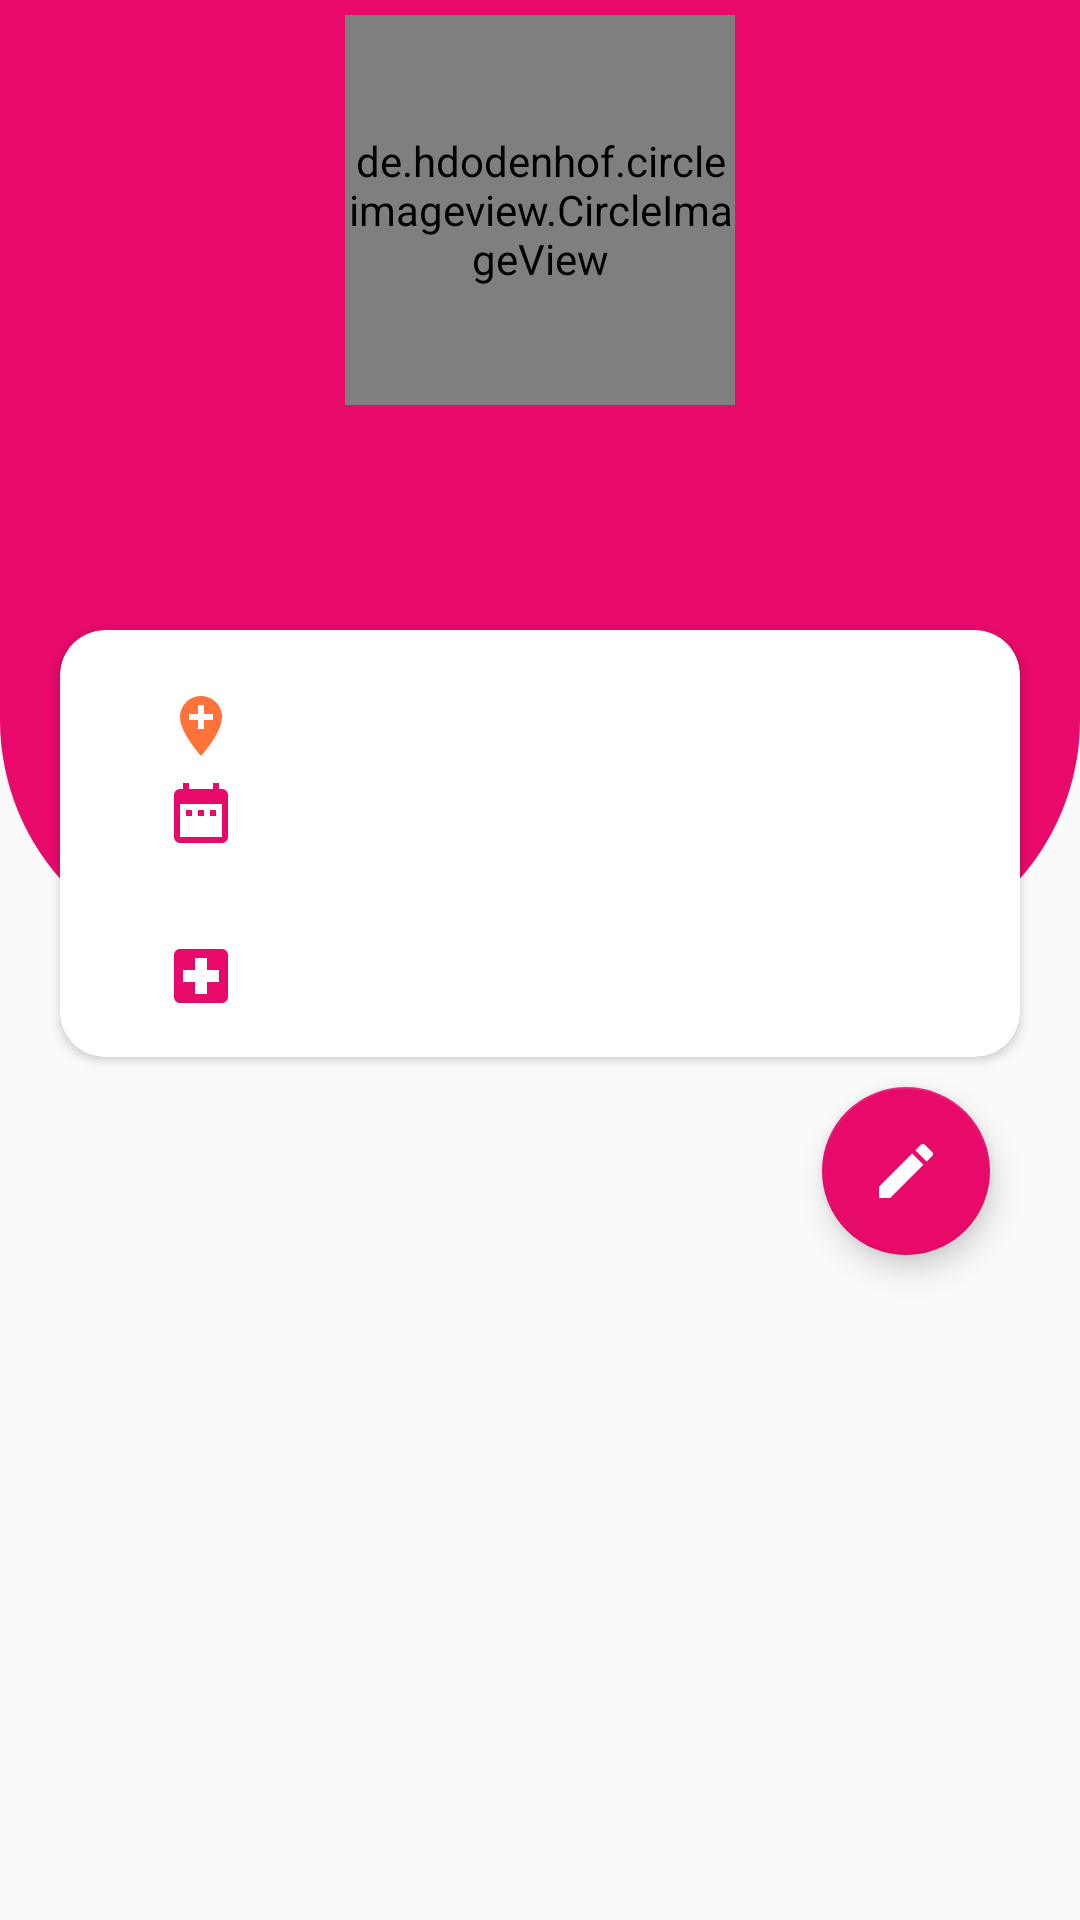

Named icons in this screenshot (1080px x 1920px) and their centers, [x,y]:
date: [201,813]
edit: [906,1171]
local hospital: [201,976]
